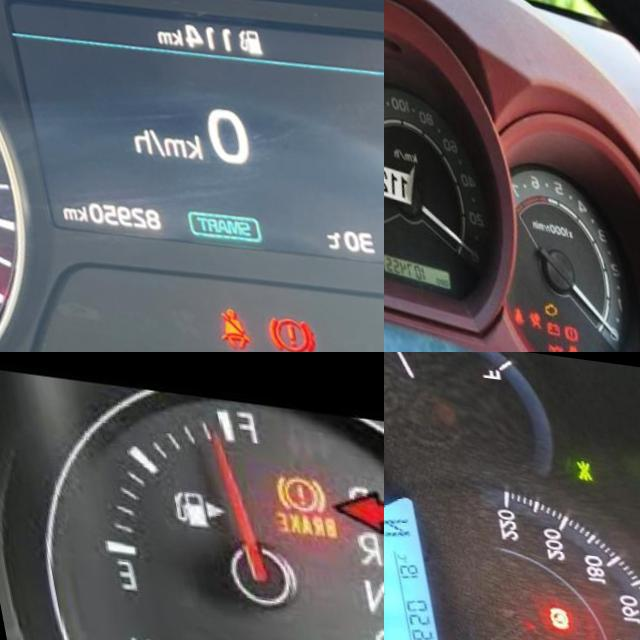Seat Belt: (495, 296, 506, 313)
